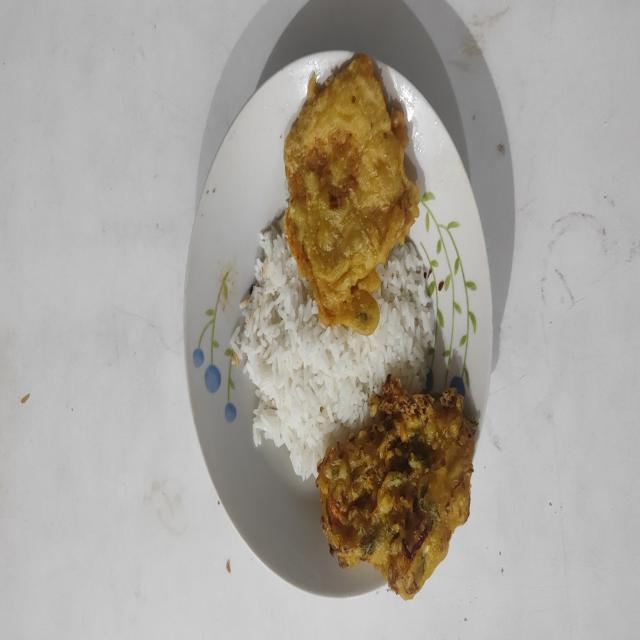nasi_putih: (230, 220, 434, 480)
